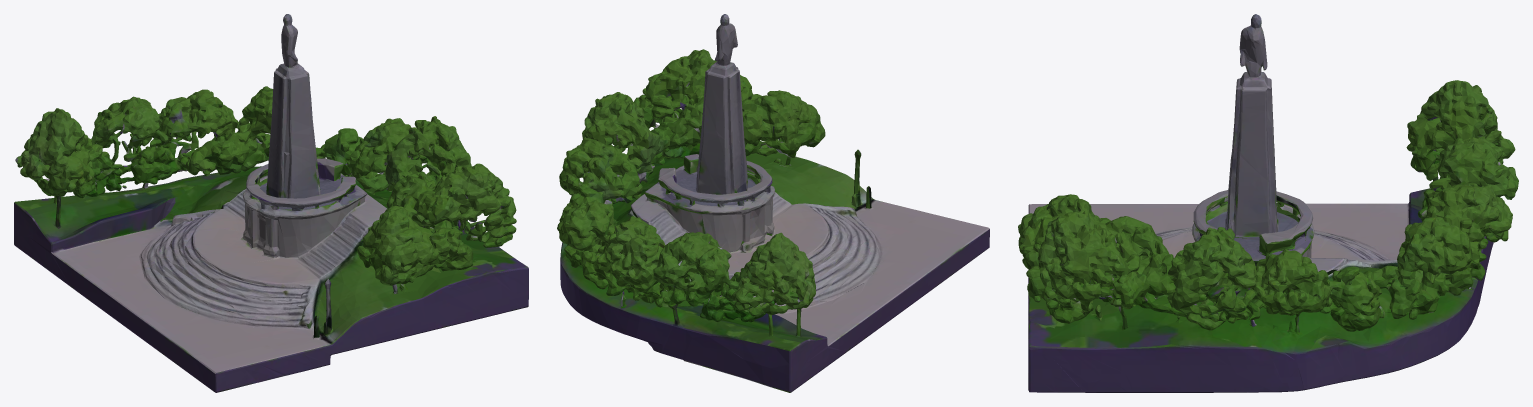
File: comp_Kaniv.glb
The picture shows the model from 3 angles, left to right: view 1: azimuth 30°, elevation 25°; view 2: azimuth 150°, elevation 25°; view 3: azimuth 270°, elevation 25°; orthographic projection. The views are drawn at different scales.
Parts seen in each view (by area): view 1: geometry_0; view 2: geometry_0; view 3: geometry_0.
Boxes of the visible parts, <box> form: geometry_0: <box>14,14,528,392</box>; geometry_0: <box>557,14,989,392</box>; geometry_0: <box>1018,14,1518,392</box>.
Bounding box in the file's own units: 1.76 × 1.35 × 1.98.
Materials: 1 (1 with a texture image).
